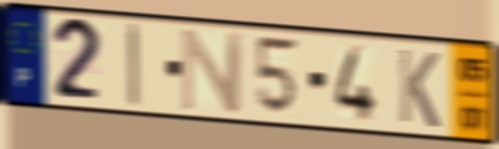2: (46, 15, 108, 106)
4: (333, 44, 379, 125)
5: (253, 32, 301, 120)
I: (124, 21, 143, 111)
K: (395, 46, 442, 132)
N: (179, 26, 247, 115)
